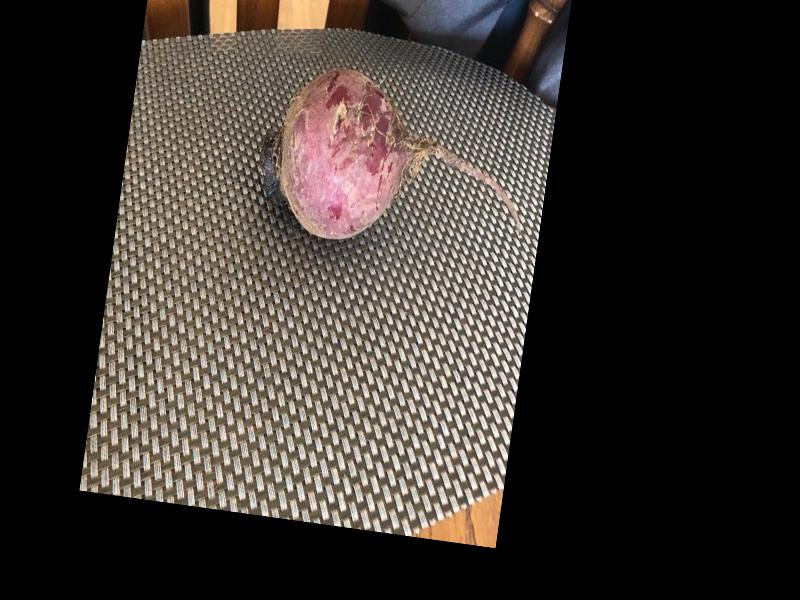Beet: (247, 56, 535, 263)
